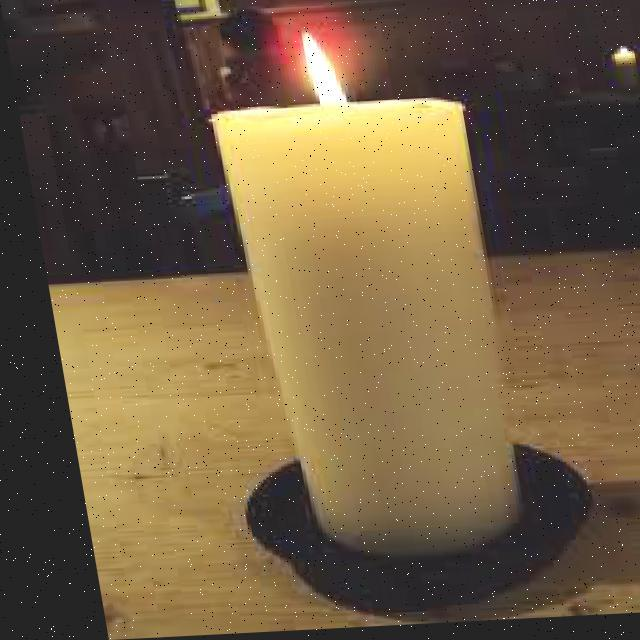Fire: (282, 26, 350, 110)
